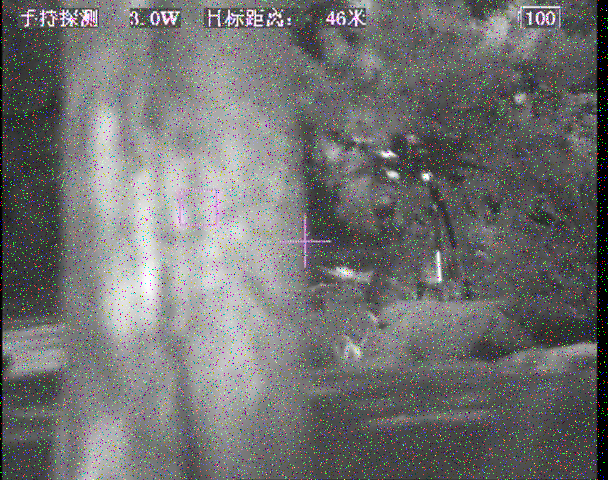my: (420, 172, 430, 182)
